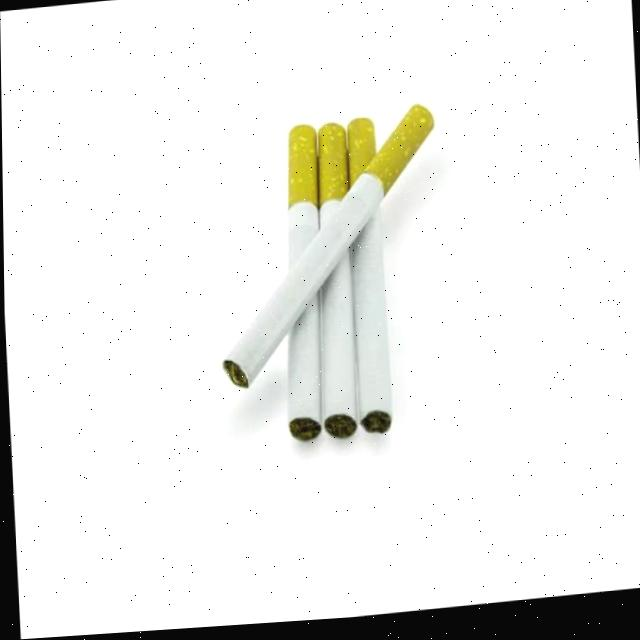cigarette: (222, 104, 434, 389), (351, 209, 392, 434), (320, 248, 357, 438), (286, 292, 322, 442), (287, 125, 320, 267), (317, 123, 348, 225)
